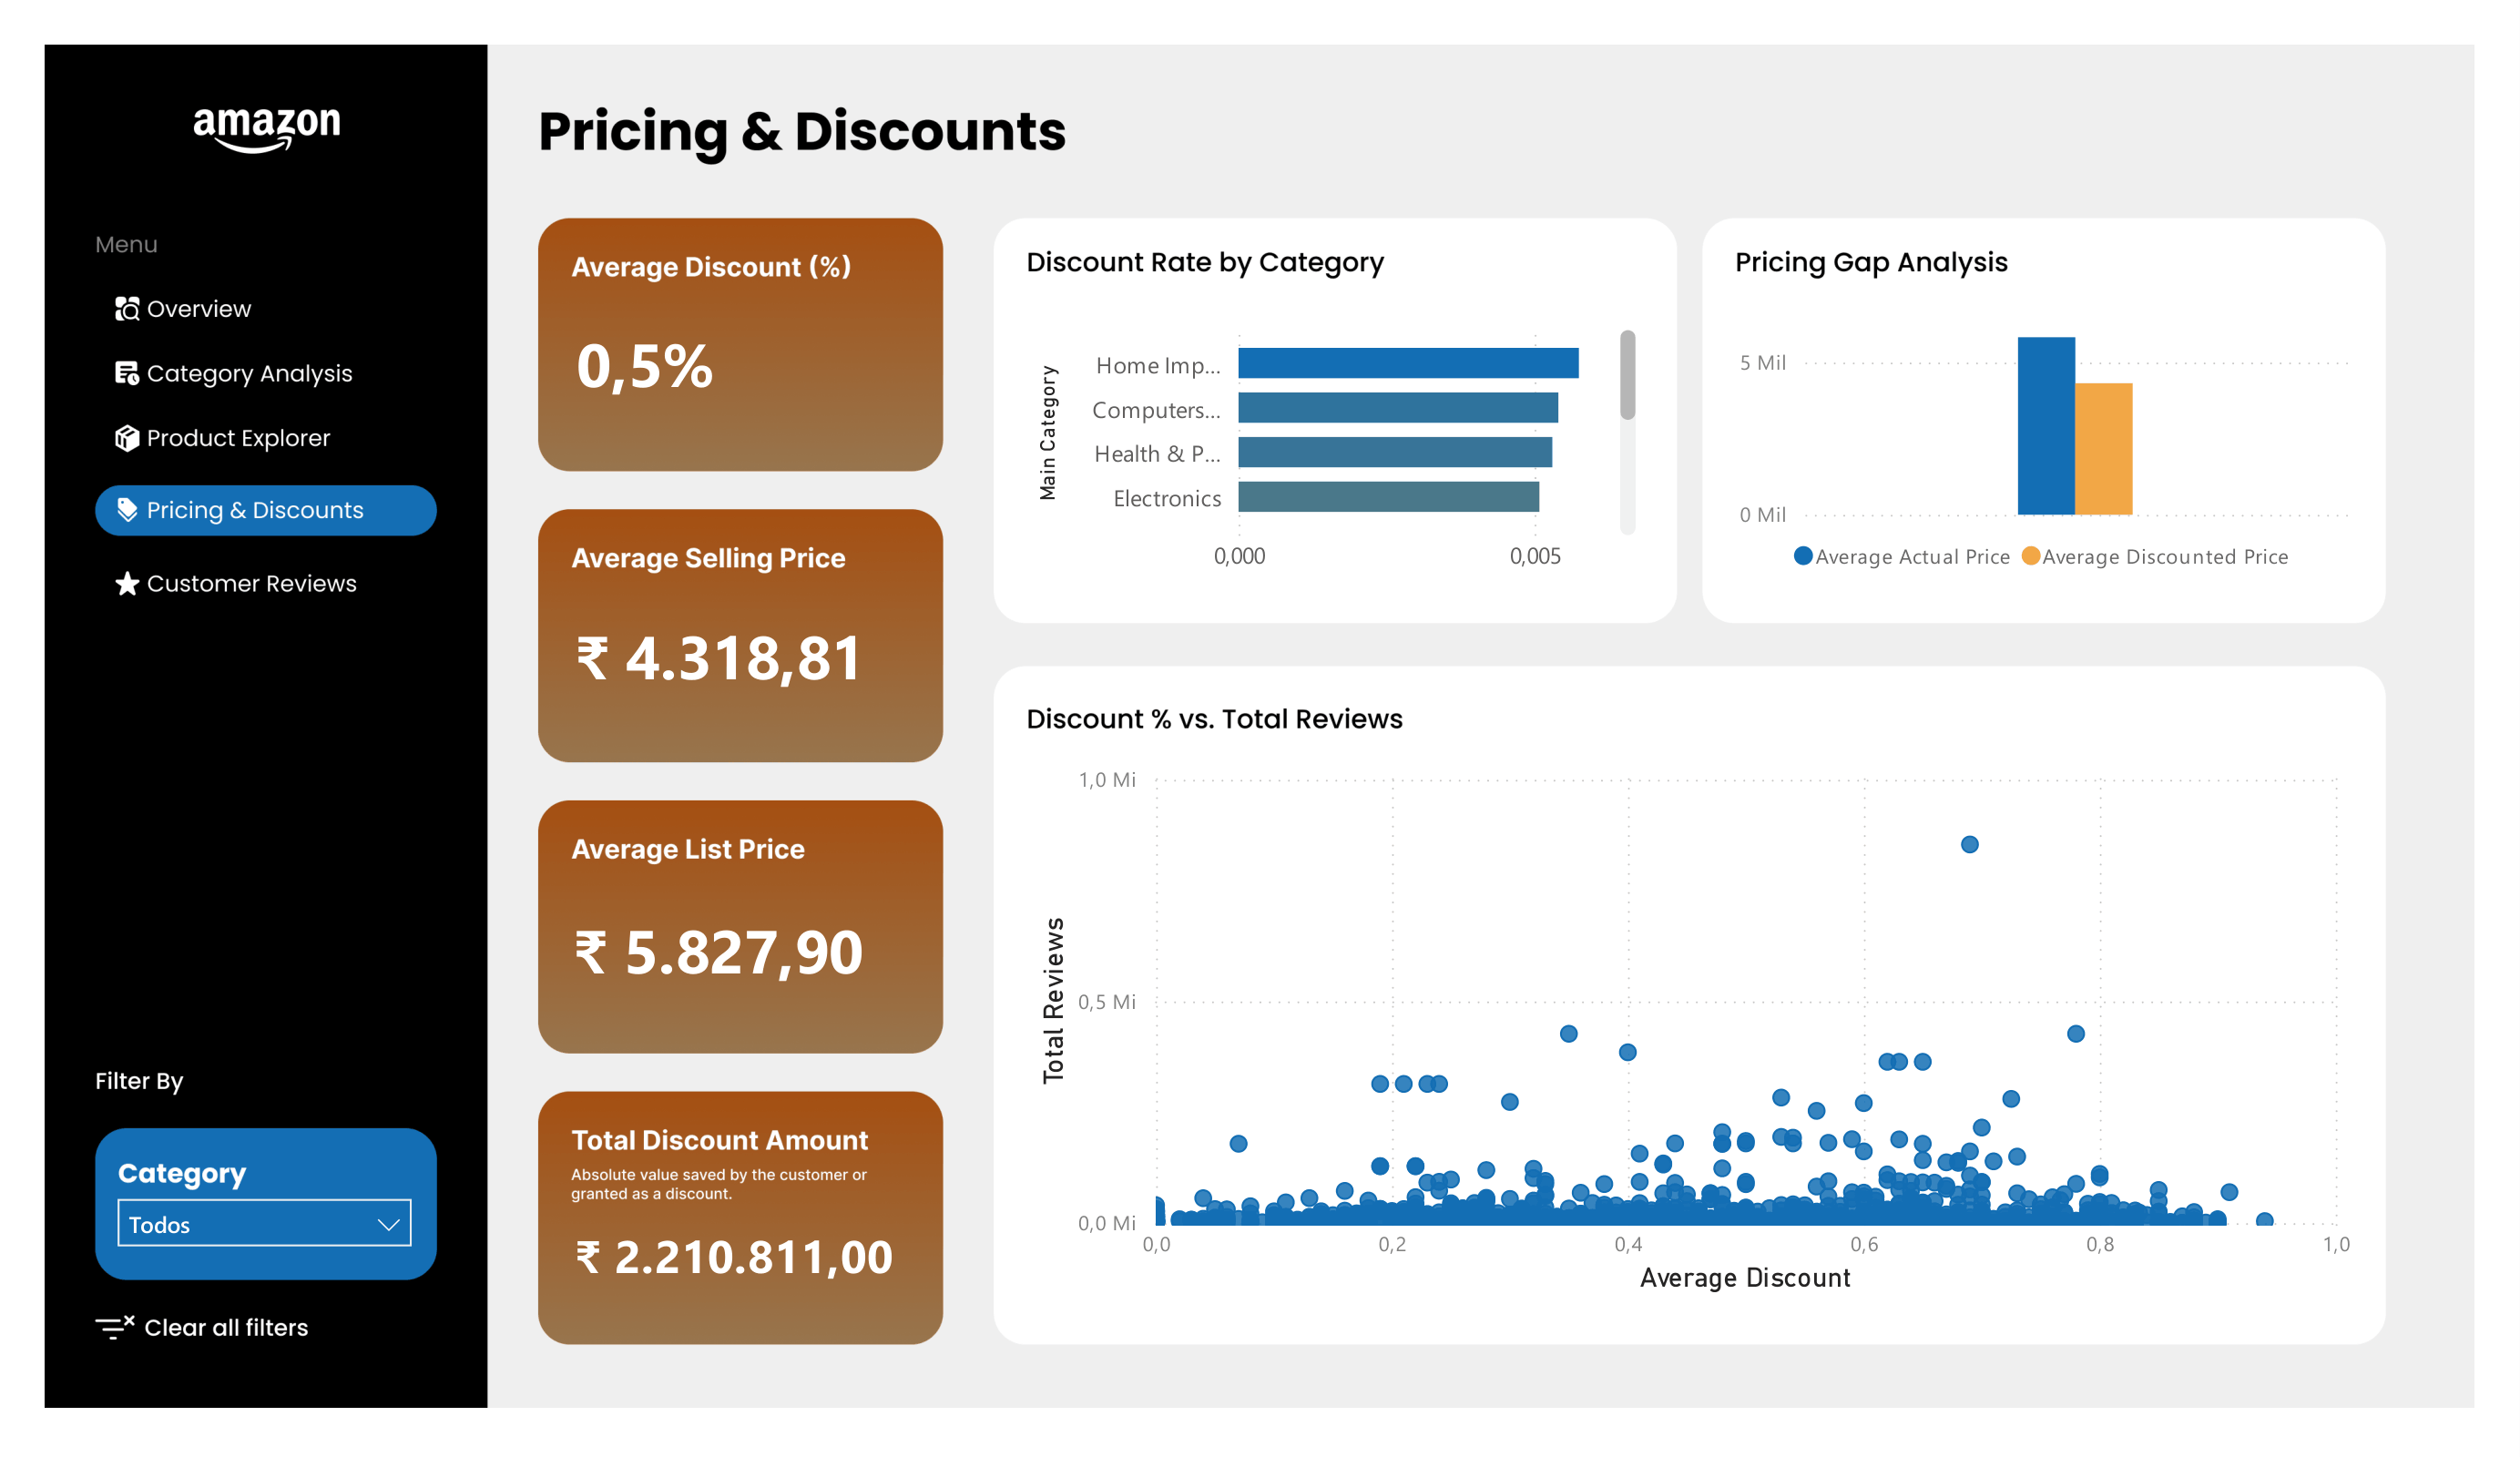

What the dashboard file says about the page in this screenshot:
{"tool":"powerbi","page":{"name":"Pricing & Discounts","canvas":[1280,720],"ordinal":3},"visuals":[{"type":"cardVisual","fields":{"Data":["Pricing Medidas.Avg Discount Rate"]},"box":[263.3,98.3,203.3,135],"z":0},{"type":"cardVisual","fields":{"Data":["Pricing Medidas.Avg Discounted Price"]},"box":[261.7,251.7,203.3,135],"z":1000},{"type":"cardVisual","fields":{"Data":["Pricing Medidas.Average Actual Price"]},"box":[261,407,204,135],"z":2000},{"type":"cardVisual","fields":{"Data":["Pricing Medidas.Total Discount Impact"]},"box":[261.7,568.3,256.7,135],"z":3000},{"type":"barChart","fields":{"Category":["amazon.Main Category"],"Y":["Pricing Medidas.Avg Discount Rate Num"]},"box":[518.3,136.7,325,150],"z":4000},{"type":"clusteredColumnChart","fields":{"Y":["Pricing Medidas.Average Actual Price Num","Category Medidas.Average Discounted Price Num"]},"box":[888.3,136.7,331.7,150],"z":5000},{"type":"scatterChart","fields":{"X":["Overview Medidas.Average Discount Num"],"Y":["Overview Medidas.Total Reviews Num"],"Category":["amazon.product_name"]},"box":[518.3,373.3,701.7,288.3],"z":6000},{"type":"slicer","fields":{"Values":["amazon.Main Category"]},"box":[33.3,603.3,165,36.7],"z":7000},{"type":"actionButton","box":[24.7,124,181.3,28.7],"z":8000},{"type":"actionButton","box":[25,159.8,182,28.7],"z":9000},{"type":"actionButton","box":[25.3,194,182,28.7],"z":10000},{"type":"actionButton","box":[24.7,269,182,28.7],"z":11000},{"type":"actionButton","box":[15.7,656.4,181.6,35.8],"z":12000}]}

Visuals, with their boxes on the page's 1280x720 design canvas (x1, y1, x2, y2). These are canvas units, not pixel positions in the 2520x1457 screenshot, which may show the page scaled, cropped or inside an application window:
cardVisual - Pricing Medidas.Avg Discount Rate: select_region(263, 98, 467, 233)
cardVisual - Pricing Medidas.Avg Discounted Price: select_region(262, 252, 465, 387)
cardVisual - Pricing Medidas.Average Actual Price: select_region(261, 407, 465, 542)
cardVisual - Pricing Medidas.Total Discount Impact: select_region(262, 568, 518, 703)
barChart - amazon.Main Category x Pricing Medidas.Avg Discount Rate Num: select_region(518, 137, 843, 287)
clusteredColumnChart - Pricing Medidas.Average Actual Price Num x Category Medidas.Average Discounted Price Num: select_region(888, 137, 1220, 287)
scatterChart - Overview Medidas.Average Discount Num x Overview Medidas.Total Reviews Num: select_region(518, 373, 1220, 662)
slicer - amazon.Main Category: select_region(33, 603, 198, 640)
actionButton: select_region(25, 124, 206, 153)
actionButton: select_region(25, 160, 207, 188)
actionButton: select_region(25, 194, 207, 223)
actionButton: select_region(25, 269, 207, 298)
actionButton: select_region(16, 656, 197, 692)
